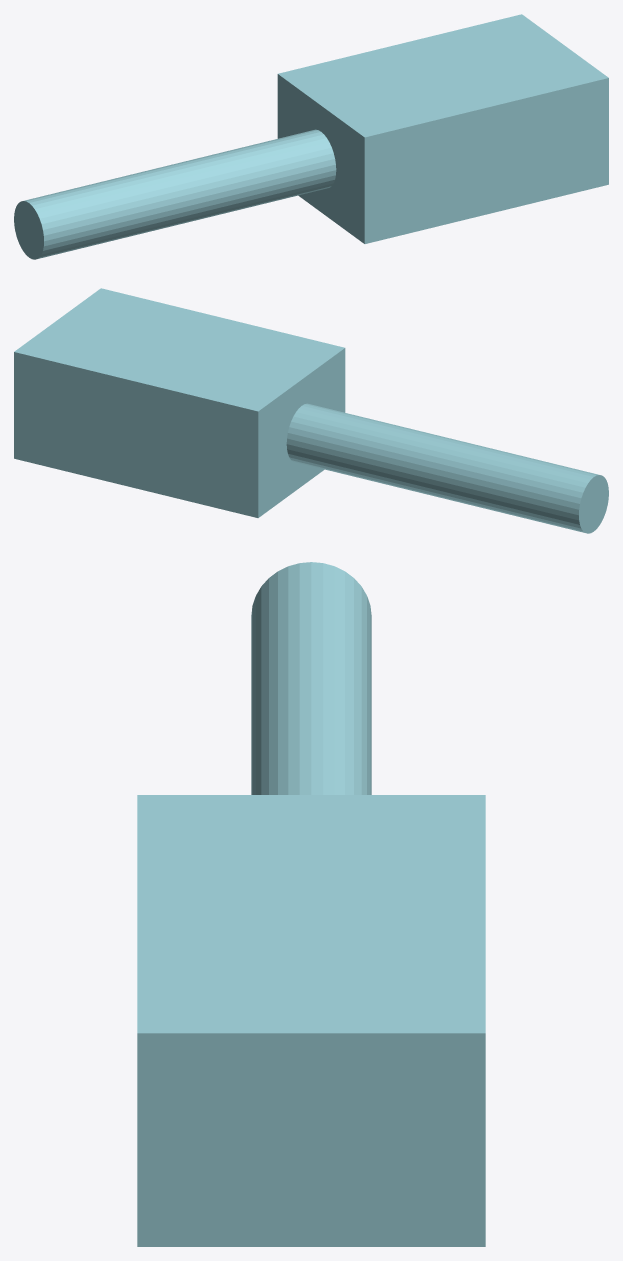
File: cylinder_brush_v9014.obj
3 views of the same model, one above another, from view 1: azimuth 30°, elevation 25°; view 2: azimuth 150°, elevation 25°; view 3: azimuth 270°, elevation 25° (orthographic). The views are drawn at different scales.
Bounding box in the file's own units: 0.2488 × 0.0473 × 0.0699.
Materials: 1 (1 with a texture image).
